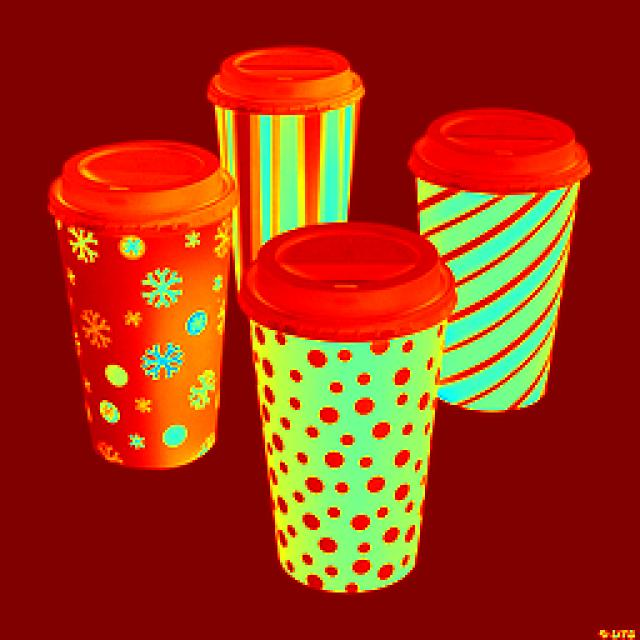Paper Cups: (38, 106, 256, 502), (253, 212, 457, 611), (420, 125, 574, 402), (207, 37, 364, 207)
